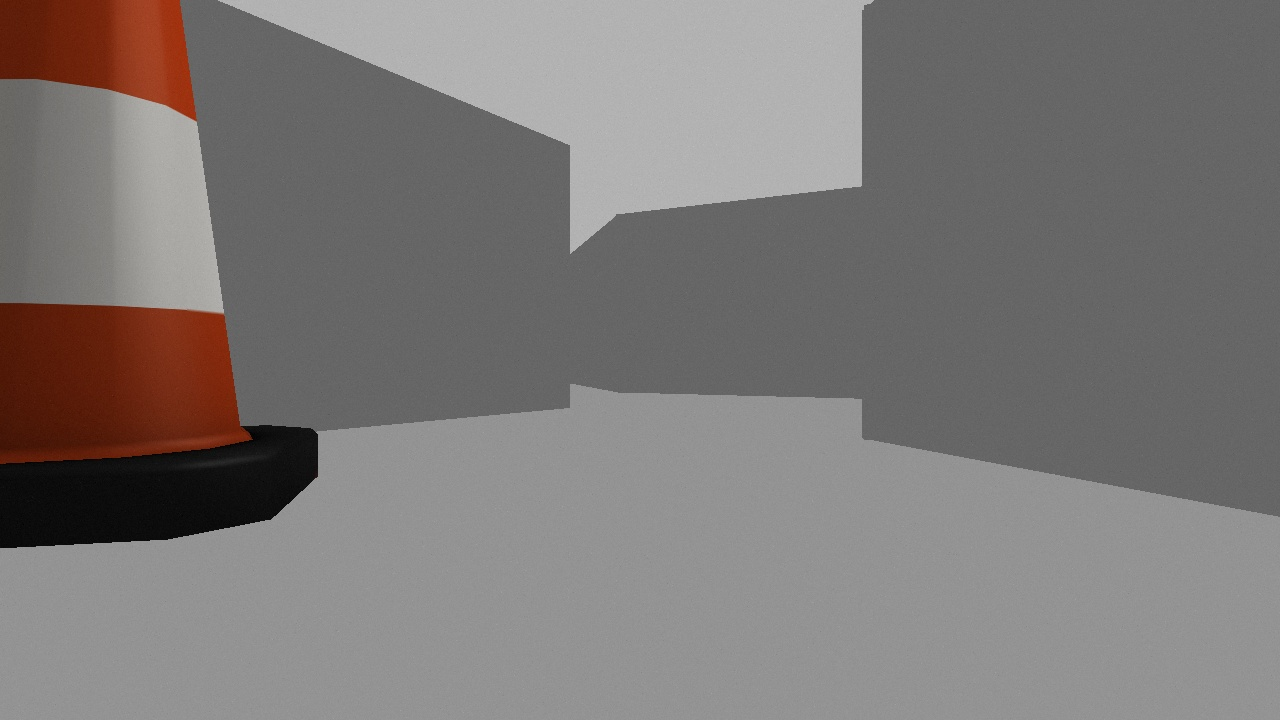barricade: (1, 1, 318, 552)
